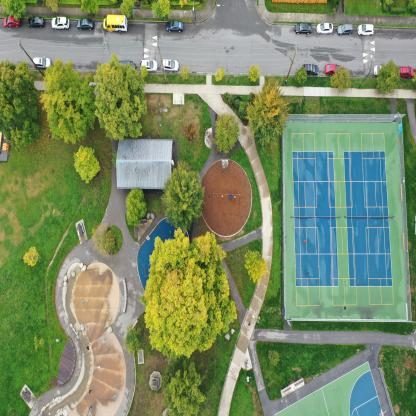Coniferous Tree: (161, 166, 205, 230), (246, 80, 286, 144), (215, 110, 239, 153)
Deciduous Tree: (144, 236, 237, 356), (96, 57, 146, 141), (46, 66, 96, 139), (0, 64, 40, 146), (162, 365, 212, 416), (73, 145, 104, 188), (244, 248, 266, 293), (123, 190, 147, 226), (21, 245, 37, 266)
